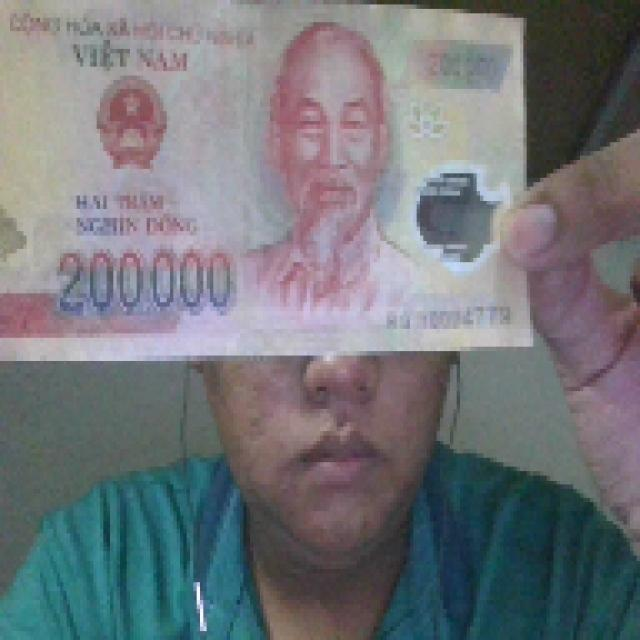200 000 VND: (0, 0, 536, 364)
